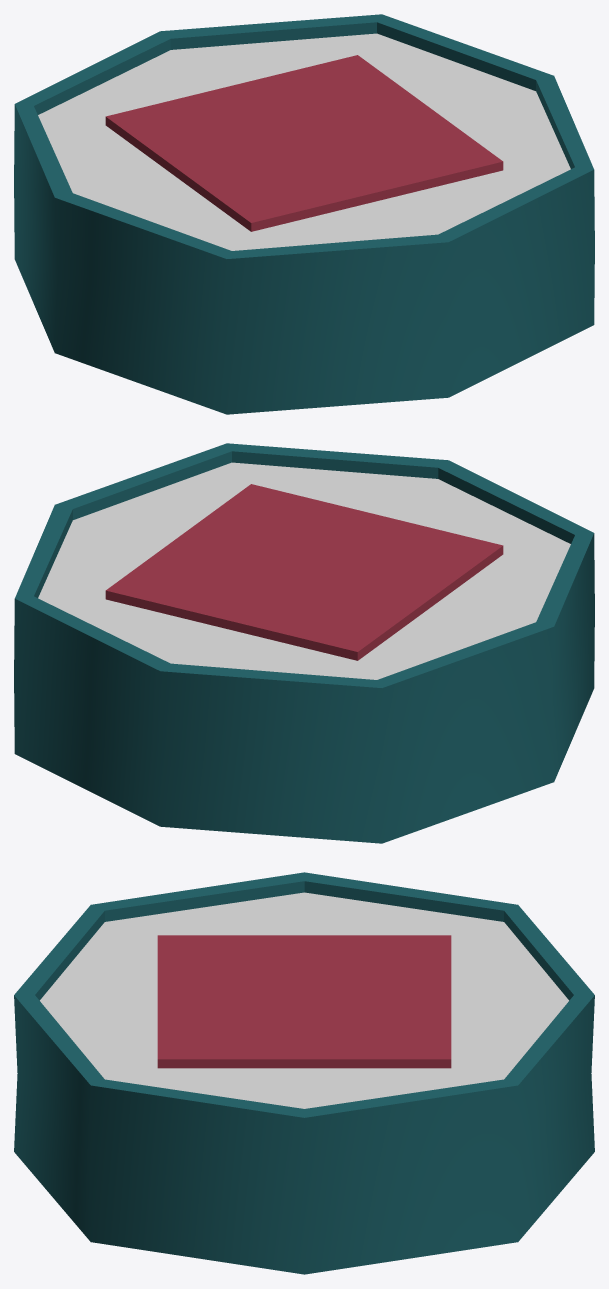
File: sushi_roll.fbx
3 renders of one model, top to bottom at view 1: azimuth 30°, elevation 25°; view 2: azimuth 150°, elevation 25°; view 3: azimuth 270°, elevation 25°, orthographic.
Visible parts, largest first — view 1: pCube4, pCube5; view 2: pCube4, pCube5; view 3: pCube4, pCube5.
Part boxes in pixels (x1,y1,x2,y2): pCube4: [14, 14, 594, 414]; pCube5: [105, 55, 503, 231]; pCube4: [14, 443, 594, 843]; pCube5: [105, 484, 503, 660]; pCube4: [14, 872, 594, 1274]; pCube5: [157, 935, 451, 1068].
Bounding box in the file's own units: 0.3554 × 0.1059 × 0.3554.
